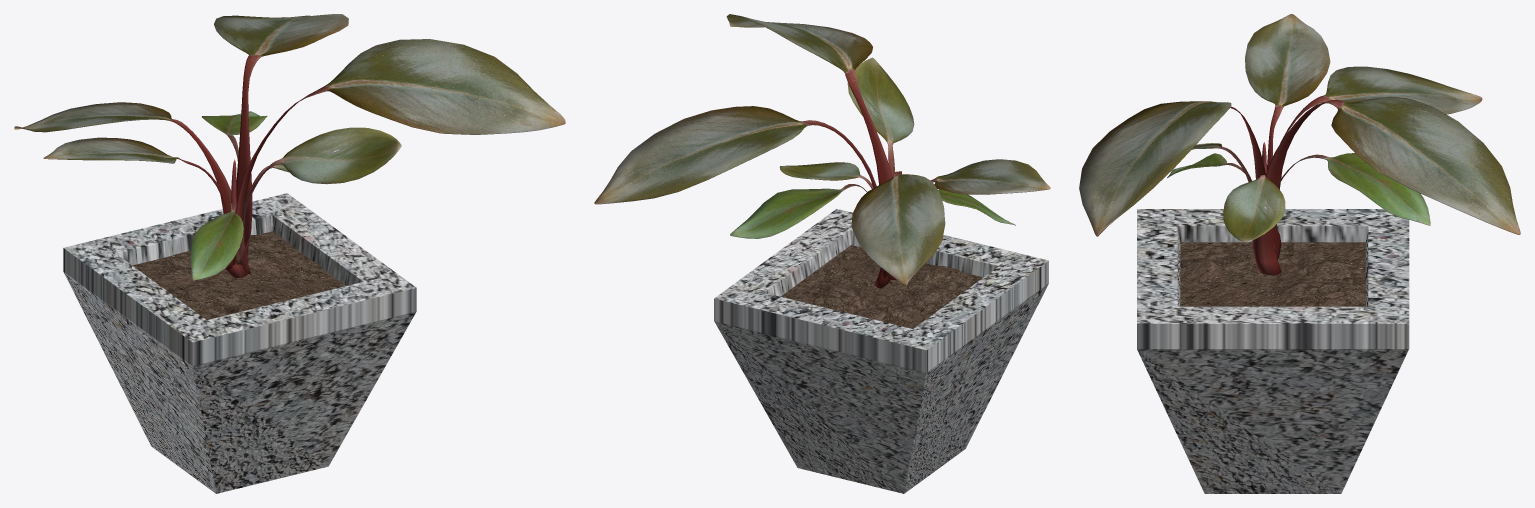
The model's file is Philodendron Rojo Congo with Pot.fbx.
3 renders of one model, left to right at view 1: azimuth 30°, elevation 25°; view 2: azimuth 150°, elevation 25°; view 3: azimuth 270°, elevation 25°, orthographic. The views are drawn at different scales.
Visible parts, largest first — view 1: Cube, philodendron rojo congo, Plane; view 2: Cube, philodendron rojo congo, Plane; view 3: Cube, philodendron rojo congo, Plane.
Boxes of the visible parts, left/top/right/bottom form: Cube: left=63, top=193, right=416, bottom=493; philodendron rojo congo: left=14, top=14, right=565, bottom=280; Plane: left=132, top=231, right=346, bottom=319; Cube: left=714, top=209, right=1048, bottom=493; philodendron rojo congo: left=594, top=14, right=1050, bottom=288; Plane: left=780, top=245, right=983, bottom=328; Cube: left=1137, top=209, right=1409, bottom=493; philodendron rojo congo: left=1079, top=14, right=1520, bottom=274; Plane: left=1180, top=242, right=1365, bottom=306.
Size of the model in its own units: 64.2 by 57.17 by 54.3.
Materials: 6 (6 with a texture image).
